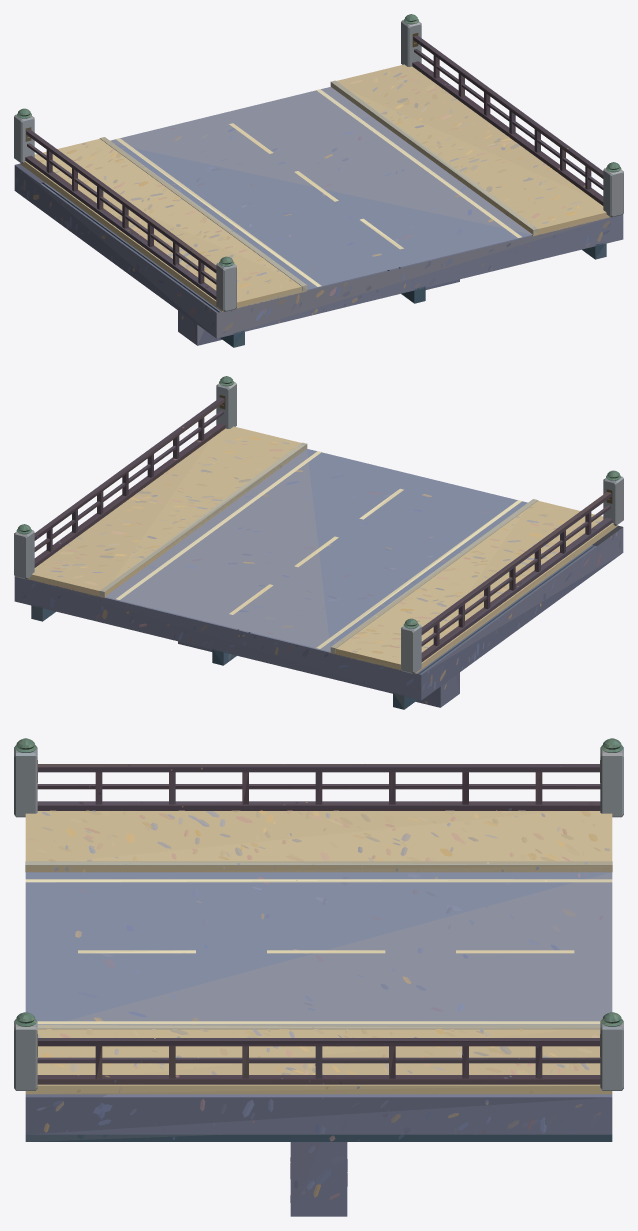
Rendered from HK_Kyobashi.glb.
3 renders of one model, top to bottom at view 1: azimuth 30°, elevation 25°; view 2: azimuth 150°, elevation 25°; view 3: azimuth 270°, elevation 25°, orthographic. The views are drawn at different scales.
Visible parts, largest first — view 1: HK_Kyobashi; view 2: HK_Kyobashi; view 3: HK_Kyobashi.
Boxes of the visible parts, left/top/right/bottom form: HK_Kyobashi: left=14, top=14, right=623, bottom=347; HK_Kyobashi: left=14, top=376, right=623, bottom=709; HK_Kyobashi: left=14, top=738, right=623, bottom=1216.
Bounding box in the file's own units: 14.41 × 5.77 × 12.9.
